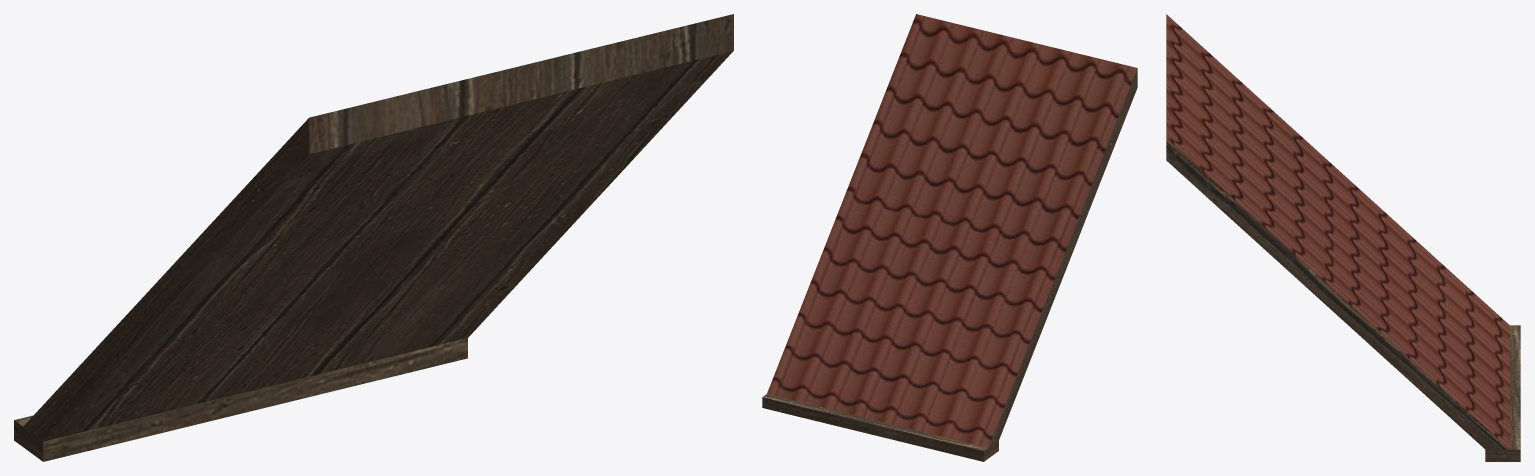
The model's file is ARC1010398.fbx.
3 views of the same model, side by side, from view 1: azimuth 30°, elevation 25°; view 2: azimuth 150°, elevation 25°; view 3: azimuth 270°, elevation 25° (orthographic). The views are drawn at different scales.
Parts seen in each view (by area): view 1: smARC1010398; view 2: smARC1010398; view 3: smARC1010398.
Boxes of the visible parts, bbox=[...] form: smARC1010398: bbox=[14, 14, 733, 461]; smARC1010398: bbox=[762, 14, 1137, 461]; smARC1010398: bbox=[1166, 14, 1520, 461].
Size of the model in its own units: 268 by 325 by 323.
1 material, 1 textured.
